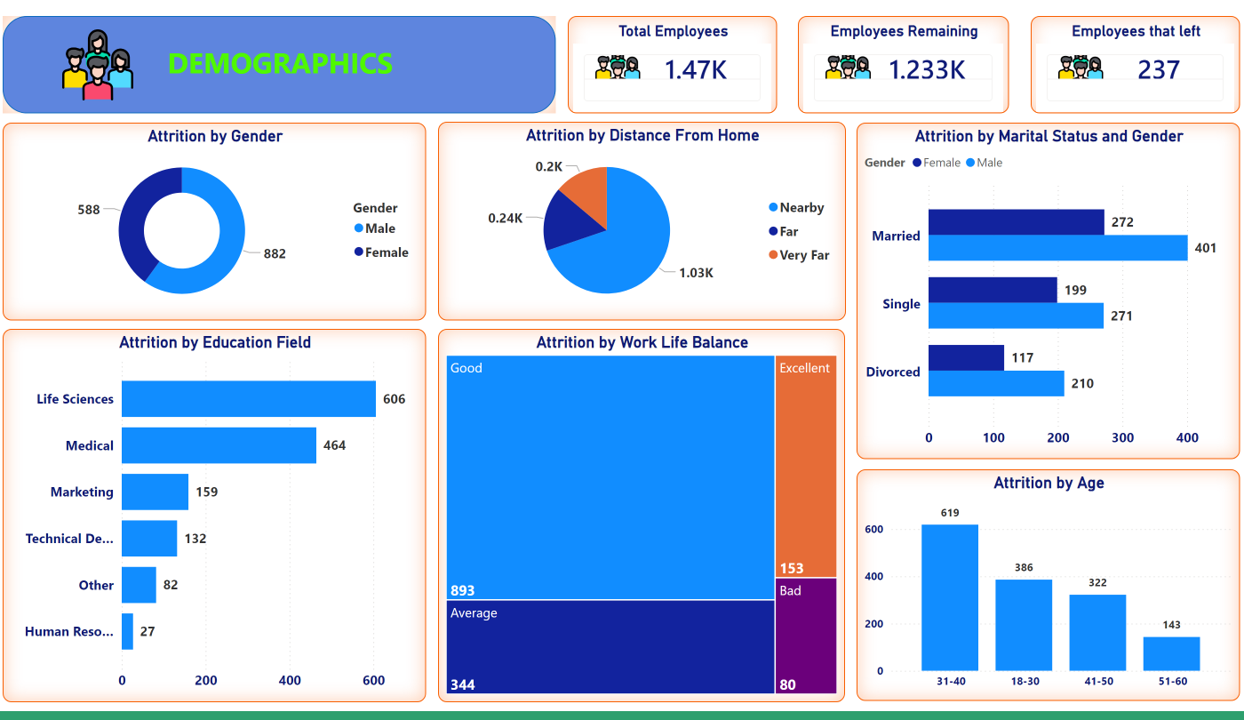

The dashboard page shown, as its layout file describes it:
{"tool":"powerbi","page":{"name":"Demographics","canvas":[1400,800],"ordinal":1},"visuals":[{"type":"cardVisual","title":"Total Employees","fields":{"Data":["CountNonNull(HR-Employee-Attrition.Attrition)"]},"box":[639,18.3,235.7,109.5],"z":0},{"type":"donutChart","title":"Attrition by Gender","fields":{"Category":["HR-Employee-Attrition.Gender"],"Y":["CountNonNull(HR-Employee-Attrition.Attrition)"]},"box":[3.3,137.8,476.3,222.4],"z":1000},{"type":"clusteredBarChart","title":"Attrition by Education Field","fields":{"Category":["HR-Employee-Attrition.Education Field"],"Y":["CountNonNull(HR-Employee-Attrition.Attrition)"]},"box":[3.3,370.1,476.3,419.9],"z":2000},{"type":"clusteredColumnChart","title":"Attrition by Age","fields":{"Y":["CountNonNull(HR-Employee-Attrition.Attrition)"],"Category":["HR-Employee-Attrition.Age (groups)"]},"box":[964.3,527.8,431.5,260.6],"z":3000},{"type":"treemap","title":"Attrition by Work Life Balance","fields":{"Group":["HR-Employee-Attrition.Work Life Balance (groups)"],"Values":["CountNonNull(HR-Employee-Attrition.Attrition)"]},"box":[492.6,370.1,458.1,419.9],"z":4000},{"type":"pieChart","title":"Attrition by Distance From Home","fields":{"Category":["HR-Employee-Attrition.Distance From Home (groups)"],"Y":["CountNonNull(HR-Employee-Attrition.Attrition)"]},"box":[492.6,137.1,458.8,223.7],"z":5000},{"type":"clusteredBarChart","title":"Attrition by Marital Status and Gender","fields":{"Y":["CountNonNull(HR-Employee-Attrition.Attrition)"],"Category":["HR-Employee-Attrition.Marital Status"],"Series":["HR-Employee-Attrition.Gender"]},"box":[964.3,137.8,431.5,378.4],"z":6000},{"type":"cardVisual","title":"Employees Remaining","fields":{"Data":["CountNonNull(HR-Employee-Attrition.Attrition)"]},"box":[897.9,18.3,237.3,109.5],"z":7000},{"type":"cardVisual","title":"Employees that left","fields":{"Data":["CountNonNull(HR-Employee-Attrition.Attrition)"]},"box":[1160.2,18.3,235.7,109.5],"z":8000},{"type":"shape","box":[3.3,18.3,622.4,109.5],"z":9000},{"type":"textbox","box":[136.1,43.2,358.5,84.6],"z":10000},{"type":"image","box":[70.2,32.7,80,80],"z":11000}]}

Visuals, with their boxes in screenshot pixels (x1, y1, x2, y2), scaled from the page's 1400x800 canvas onto the 1244x720 screenshot:
"Total Employees" cardVisual: (left=568, top=16, right=777, bottom=115)
"Attrition by Gender" donutChart: (left=3, top=124, right=426, bottom=324)
"Attrition by Education Field" clusteredBarChart: (left=3, top=333, right=426, bottom=711)
"Attrition by Age" clusteredColumnChart: (left=857, top=475, right=1240, bottom=710)
"Attrition by Work Life Balance" treemap: (left=438, top=333, right=845, bottom=711)
"Attrition by Distance From Home" pieChart: (left=438, top=123, right=845, bottom=325)
"Attrition by Marital Status and Gender" clusteredBarChart: (left=857, top=124, right=1240, bottom=465)
"Employees Remaining" cardVisual: (left=798, top=16, right=1009, bottom=115)
"Employees that left" cardVisual: (left=1031, top=16, right=1240, bottom=115)
shape: (left=3, top=16, right=556, bottom=115)
textbox: (left=121, top=39, right=439, bottom=115)
image: (left=62, top=29, right=133, bottom=101)
